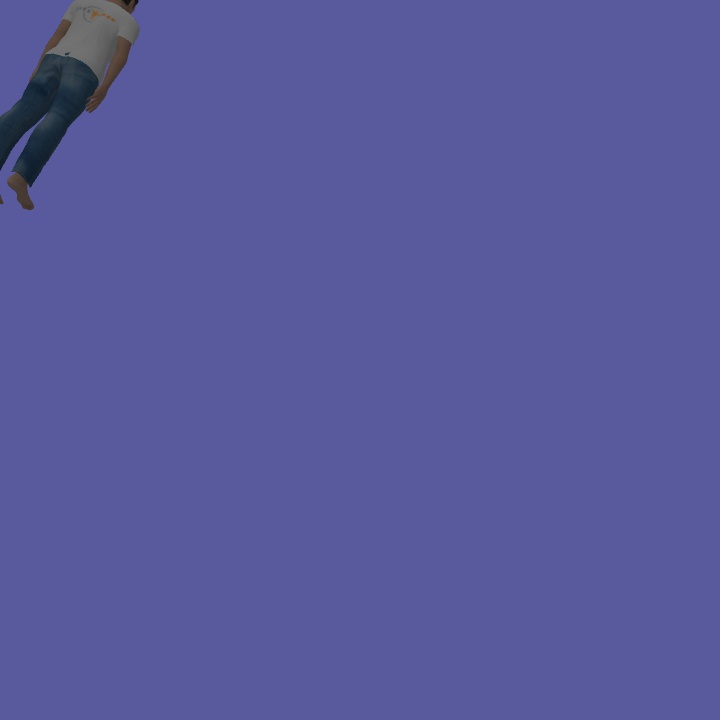victim: (2, 1, 137, 210)
